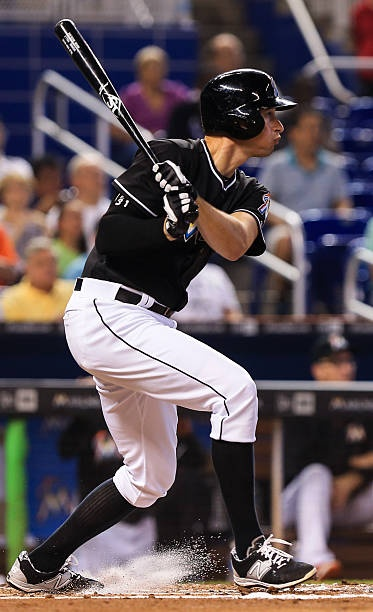bita: (56, 17, 183, 215)
